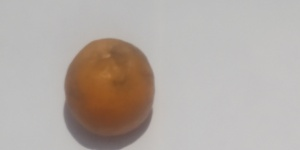BAD: (64, 33, 159, 140)
